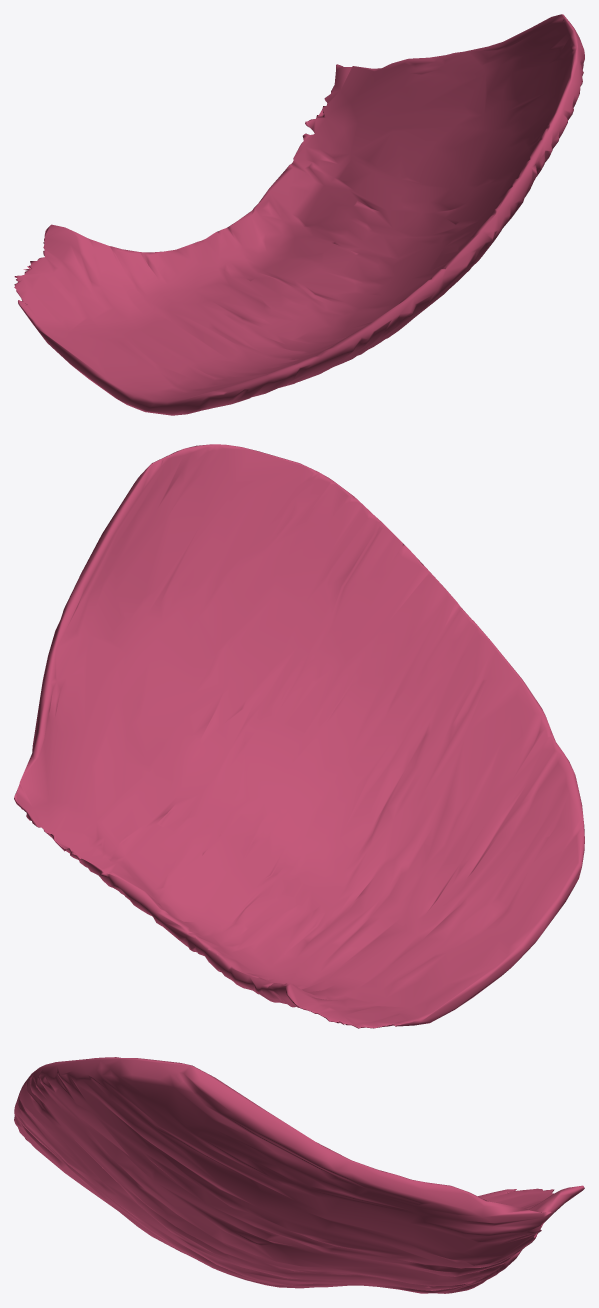
3 views of the same model, one above another, from view 1: azimuth 30°, elevation 25°; view 2: azimuth 150°, elevation 25°; view 3: azimuth 270°, elevation 25° (orthographic). The views are drawn at different scales.
Visible parts, largest first — view 1: 左侧额肌; view 2: 左侧额肌; view 3: 左侧额肌.
Part boxes in pixels (x1,y1,x2,y2): 左侧额肌: [14, 14, 584, 415]; 左侧额肌: [14, 444, 584, 1028]; 左侧额肌: [14, 1057, 584, 1293].
Size of the model in its own units: 0.0861 by 0.0691 by 0.1033.
